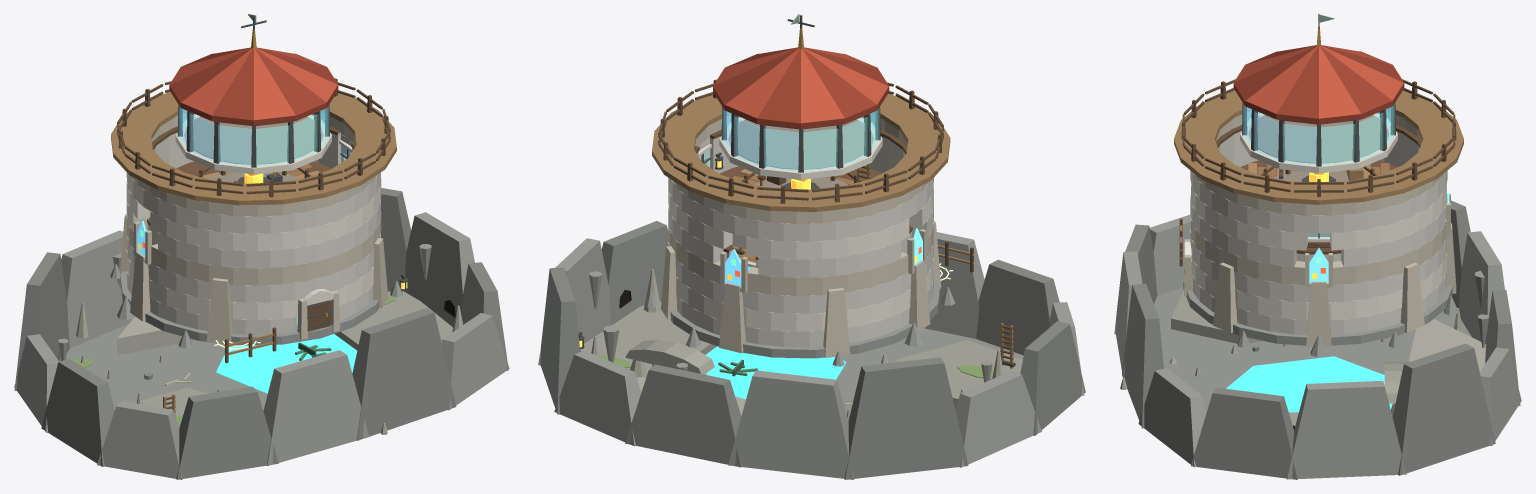
File: holm_lastlight_lighthouse_v1.glb
3 renders of one model, left to right at view 1: azimuth 30°, elevation 25°; view 2: azimuth 150°, elevation 25°; view 3: azimuth 270°, elevation 25°, orthographic. The views are drawn at different scales.
Parts seen in each view (by area): view 1: CR_Dungeon_StaticBatch, CR_Exterior_StaticBatch, ConnectedTowerStone_Course_01, CR_Level3_StaticBatch, ConnectedTowerStone_Course_00, BatteredStonePlinth, EntryDoorOak; view 2: CR_Dungeon_StaticBatch, CR_Exterior_StaticBatch, ConnectedTowerStone_Course_01, CR_Level3_StaticBatch, ConnectedTowerStone_Course_00, BatteredStonePlinth; view 3: CR_Dungeon_StaticBatch, CR_Exterior_StaticBatch, ConnectedTowerStone_Course_01, CR_Level3_StaticBatch, ConnectedTowerStone_Course_00, BatteredStonePlinth, CR_Level2_StaticBatch.
Part boxes in pixels (x1,y1,x2,y2): CR_Dungeon_StaticBatch: (14,188,509,479); CR_Exterior_StaticBatch: (110,14,402,363); ConnectedTowerStone_Course_01: (126,249,373,319); CR_Level3_StaticBatch: (152,126,355,183); ConnectedTowerStone_Course_00: (126,269,373,334); BatteredStonePlinth: (120,271,378,345); EntryDoorOak: (307,300,330,331); CR_Dungeon_StaticBatch: (538,221,1085,479); CR_Exterior_StaticBatch: (644,14,973,366); ConnectedTowerStone_Course_01: (675,258,933,331); CR_Level3_StaticBatch: (694,129,907,248); ConnectedTowerStone_Course_00: (676,278,933,347); BatteredStonePlinth: (670,281,940,358); CR_Dungeon_StaticBatch: (1114,200,1521,479); CR_Exterior_StaticBatch: (1174,14,1463,357); ConnectedTowerStone_Course_01: (1191,253,1446,320); CR_Level3_StaticBatch: (1215,125,1422,245); ConnectedTowerStone_Course_00: (1192,273,1446,334); BatteredStonePlinth: (1183,274,1452,345); CR_Level2_StaticBatch: (1296,245,1341,261).
Bounding box in the file's own units: 40.46 × 31.89 × 32.22.
